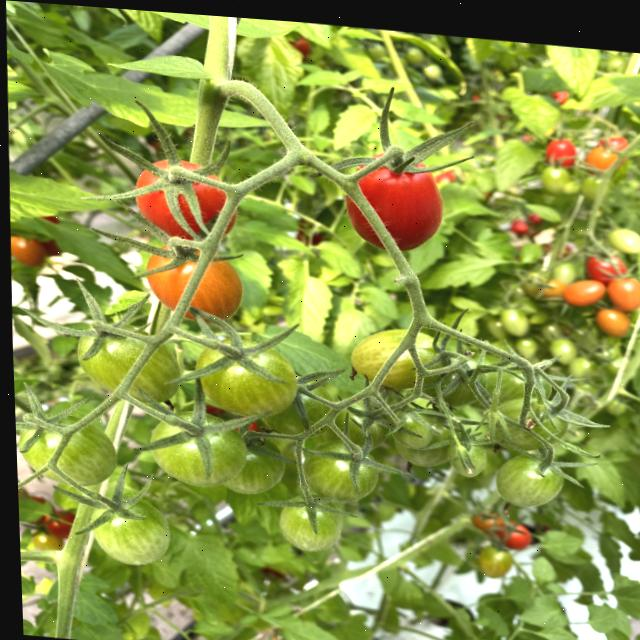ripe0: (18, 412, 117, 491), (150, 410, 244, 490)
ripe1: (146, 240, 243, 324)
ripe2: (361, 155, 444, 256), (136, 162, 209, 235)
